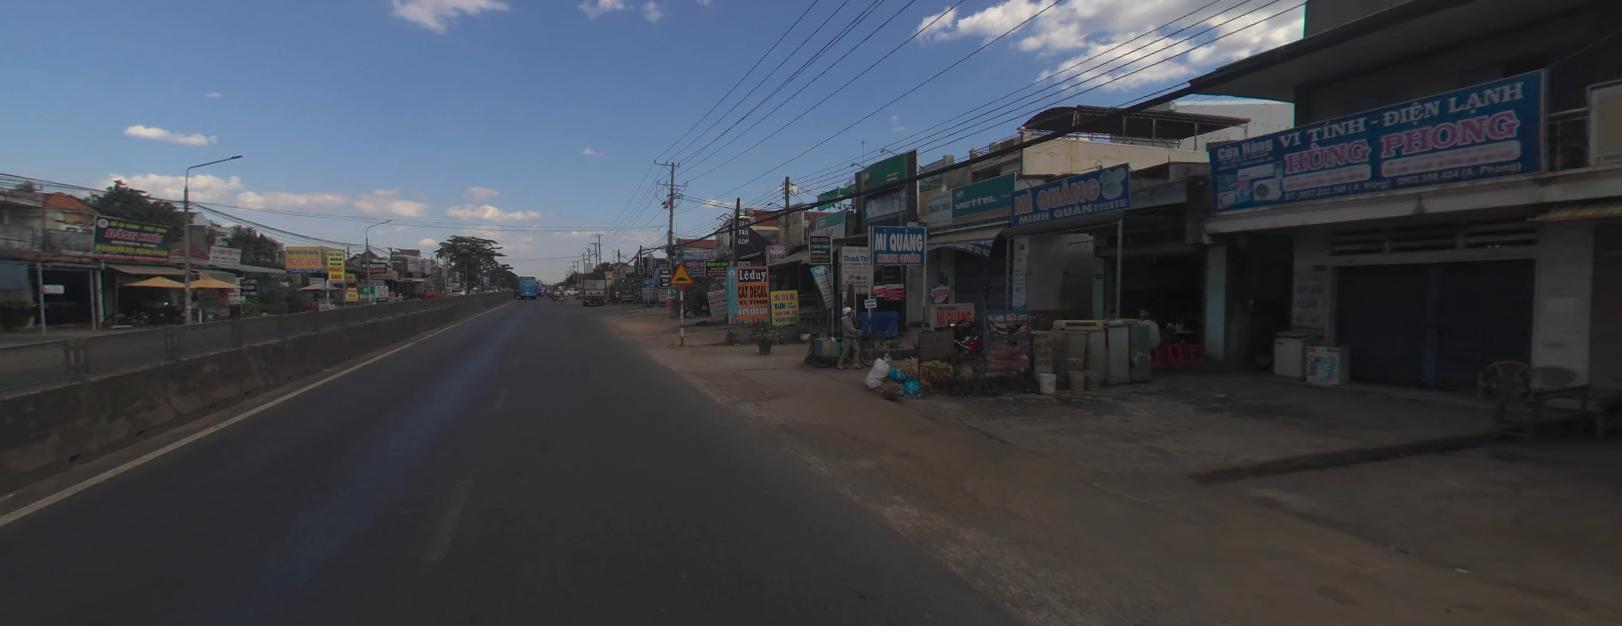Nguy hiem: (668, 260, 694, 284)
